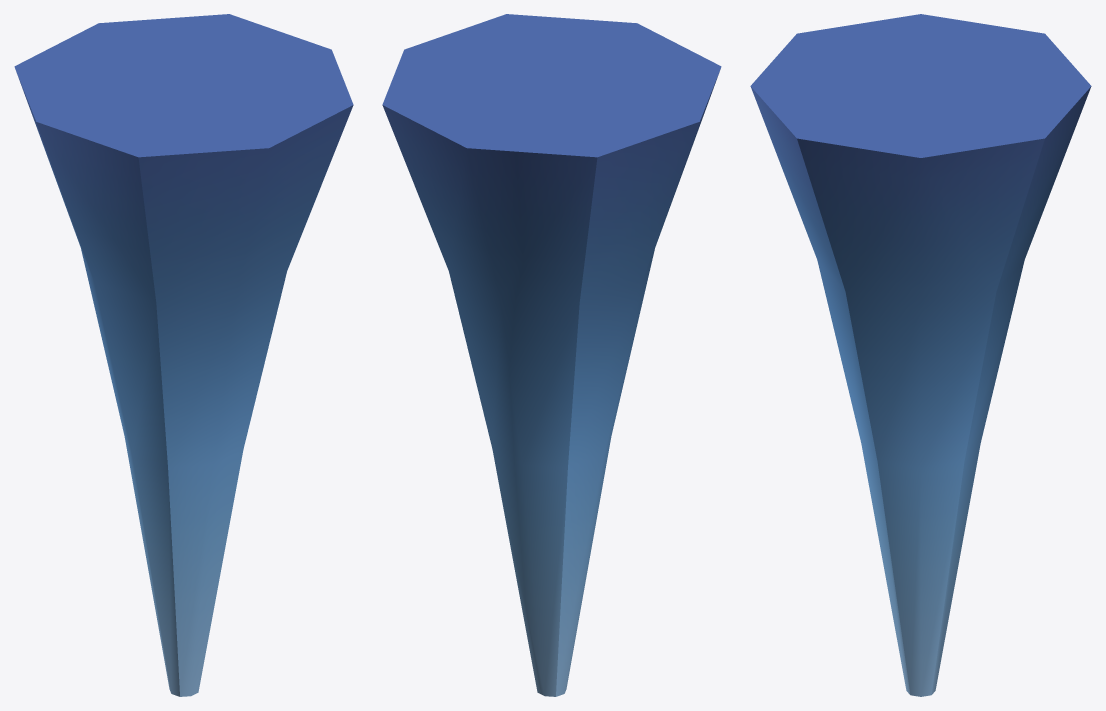
Rendered from icicle03.fbx.
3 views of the same model, side by side, from view 1: azimuth 30°, elevation 25°; view 2: azimuth 150°, elevation 25°; view 3: azimuth 270°, elevation 25° (orthographic).
Visible parts, largest first — view 1: iceicle03; view 2: iceicle03; view 3: iceicle03.
Part boxes in pixels (x1,y1,x2,y2): iceicle03: (14,14,353,696); iceicle03: (382,14,721,696); iceicle03: (750,14,1091,696).
Size of the model in its own units: 0.5112 by 1 by 0.5112.
